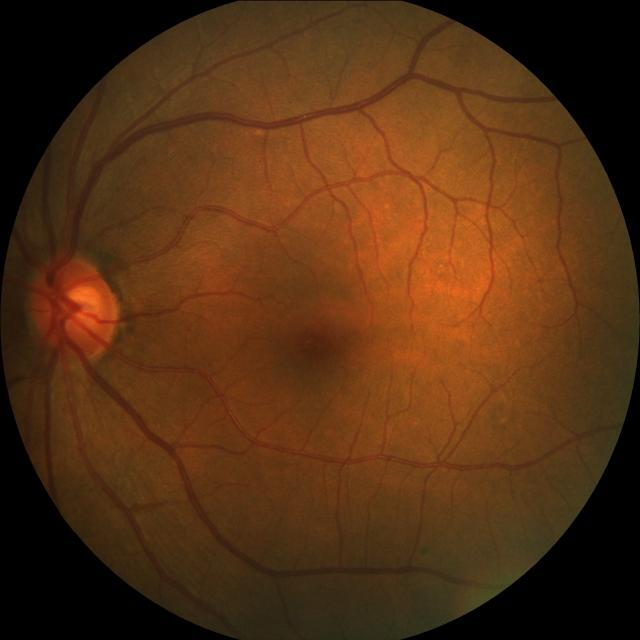OC: (58, 284, 106, 332)
OD: (29, 254, 120, 364)
